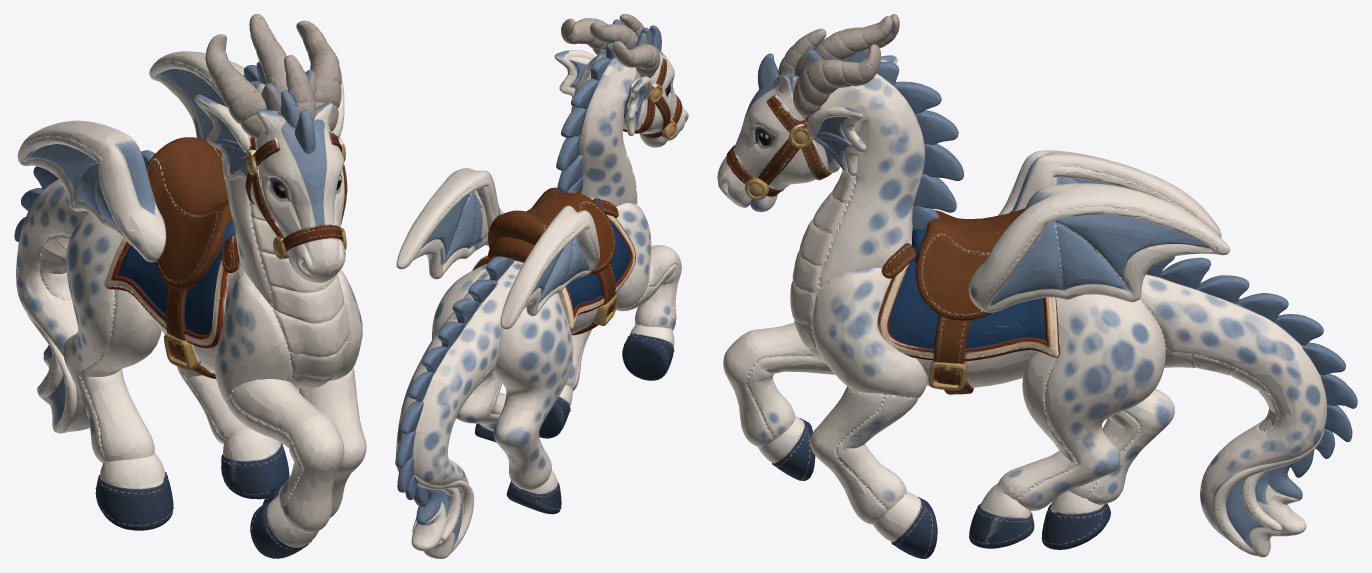
File: dragon.glb
3 views of the same model, side by side, from view 1: azimuth 30°, elevation 25°; view 2: azimuth 150°, elevation 25°; view 3: azimuth 270°, elevation 25° (orthographic). The views are drawn at different scales.
Bounding box in the file's own units: 0.6045 × 1.76 × 1.9.
1 material, 1 textured.
